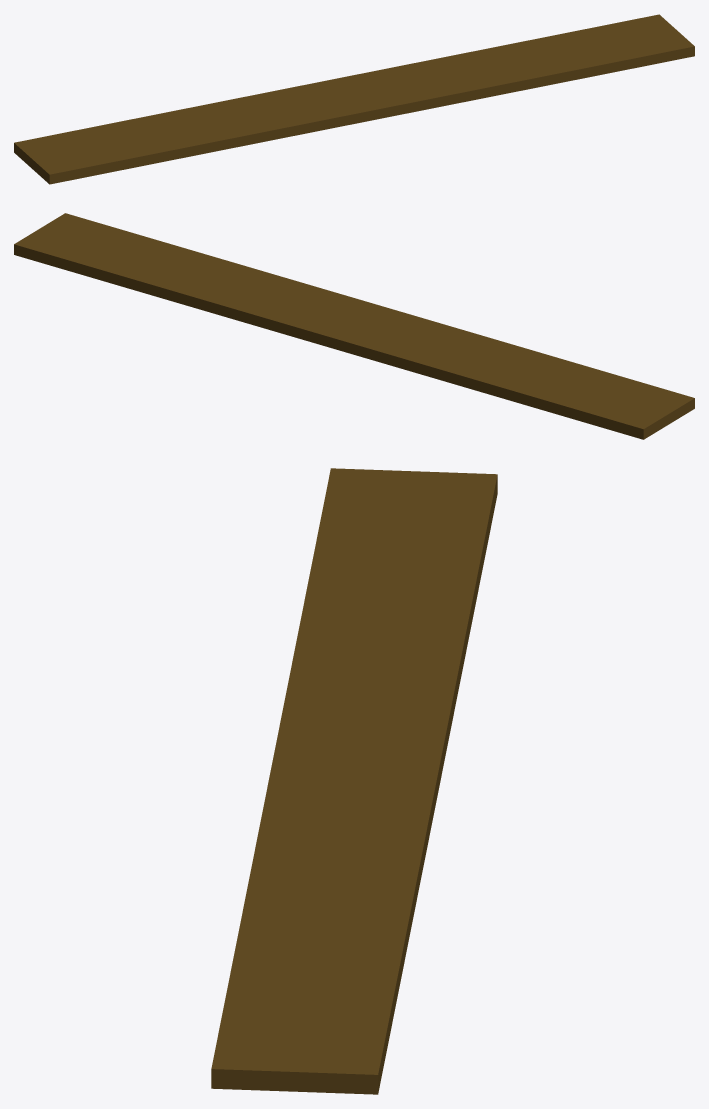
The model's file is Scaffold Board.fbx.
3 views of the same model, one above another, from view 1: azimuth 30°, elevation 25°; view 2: azimuth 150°, elevation 25°; view 3: azimuth 270°, elevation 25° (orthographic). The views are drawn at different scales.
Parts seen in each view (by area): view 1: Scaffold board; view 2: Scaffold board; view 3: Scaffold board.
Boxes of the visible parts, box(x1,y1,x2,y2) form: Scaffold board: box(14, 14, 694, 184); Scaffold board: box(14, 213, 694, 439); Scaffold board: box(211, 468, 497, 1094).
Size of the model in its own units: 722 by 10.95 by 144.
